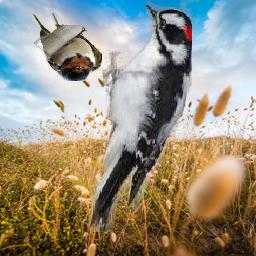Swallow: (32, 13, 102, 81)
Woodpecker: (88, 2, 193, 233)
